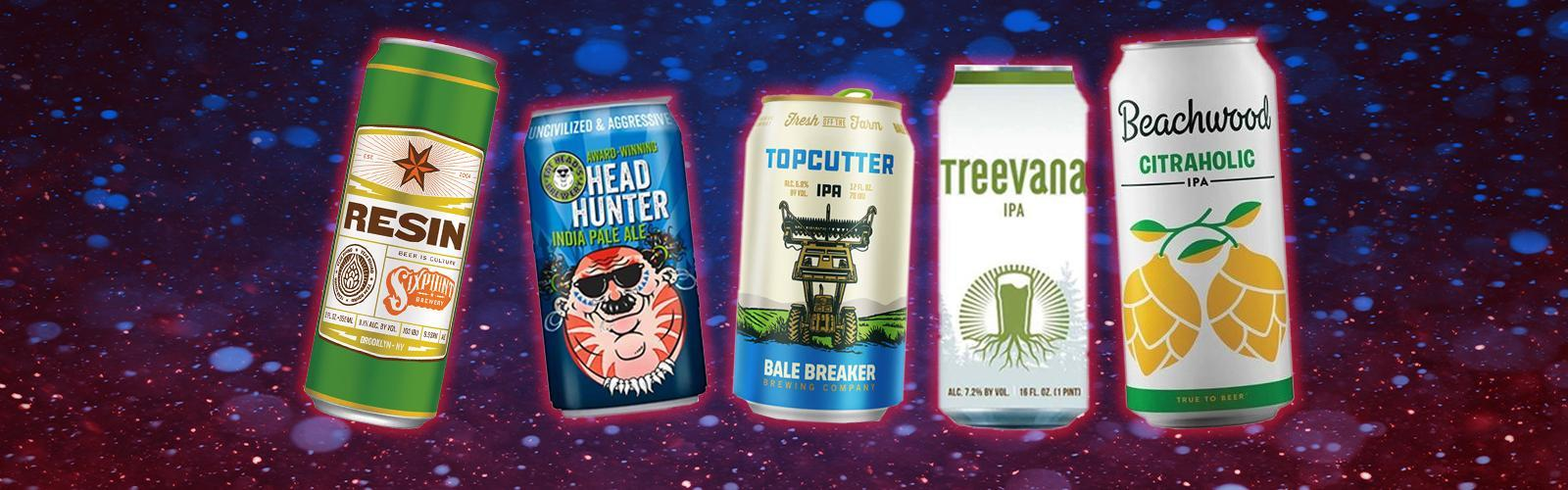metal: (409, 33, 493, 432), (114, 32, 184, 436), (190, 91, 266, 419), (348, 56, 411, 432), (273, 87, 342, 428)
